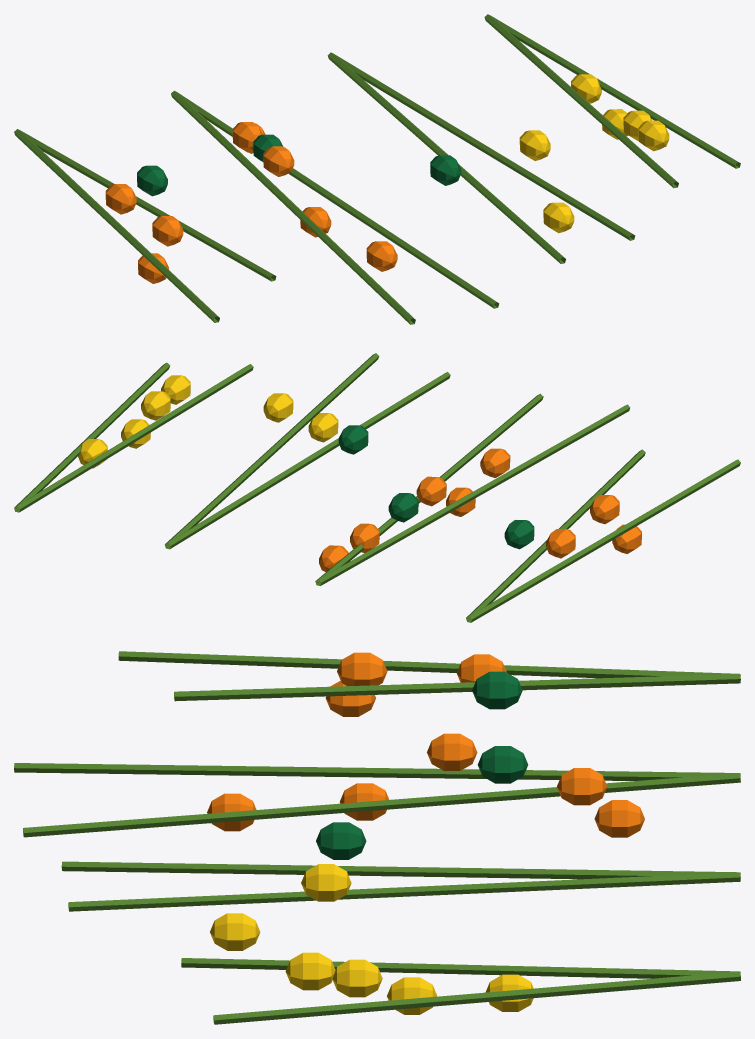
File: r11c2_stems.obj
The picture shows the model from 3 angles, top to bottom: view 1: azimuth 30°, elevation 25°; view 2: azimuth 150°, elevation 25°; view 3: azimuth 270°, elevation 25°; orthographic projection. The views are drawn at different scales.
Parts seen in each view (by area): view 1: r11c2_stems; view 2: r11c2_stems; view 3: r11c2_stems.
Boxes of the visible parts, bbox=[...] form: r11c2_stems: bbox=[14, 14, 740, 324]; r11c2_stems: bbox=[14, 353, 740, 622]; r11c2_stems: bbox=[14, 651, 740, 1024].
Bounding box in the file's own units: 1.67 × 0.197 × 1.43.
